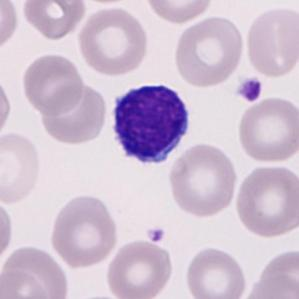Lymphocyte: (105, 77, 197, 171)
Platelets: (235, 76, 264, 104), (144, 225, 166, 244)
RBC: (166, 141, 240, 219), (48, 191, 121, 270), (172, 14, 246, 89), (75, 5, 150, 76), (231, 161, 299, 239), (38, 80, 108, 146), (235, 94, 298, 165), (104, 237, 176, 299), (20, 51, 86, 116), (243, 4, 298, 80), (1, 242, 72, 299), (183, 244, 249, 299), (0, 129, 44, 206), (20, 0, 87, 41), (253, 246, 299, 298), (142, 0, 214, 24), (238, 273, 298, 299), (0, 267, 50, 298), (0, 0, 21, 52), (0, 196, 15, 267), (0, 74, 14, 138), (71, 0, 142, 7), (65, 292, 133, 299)
